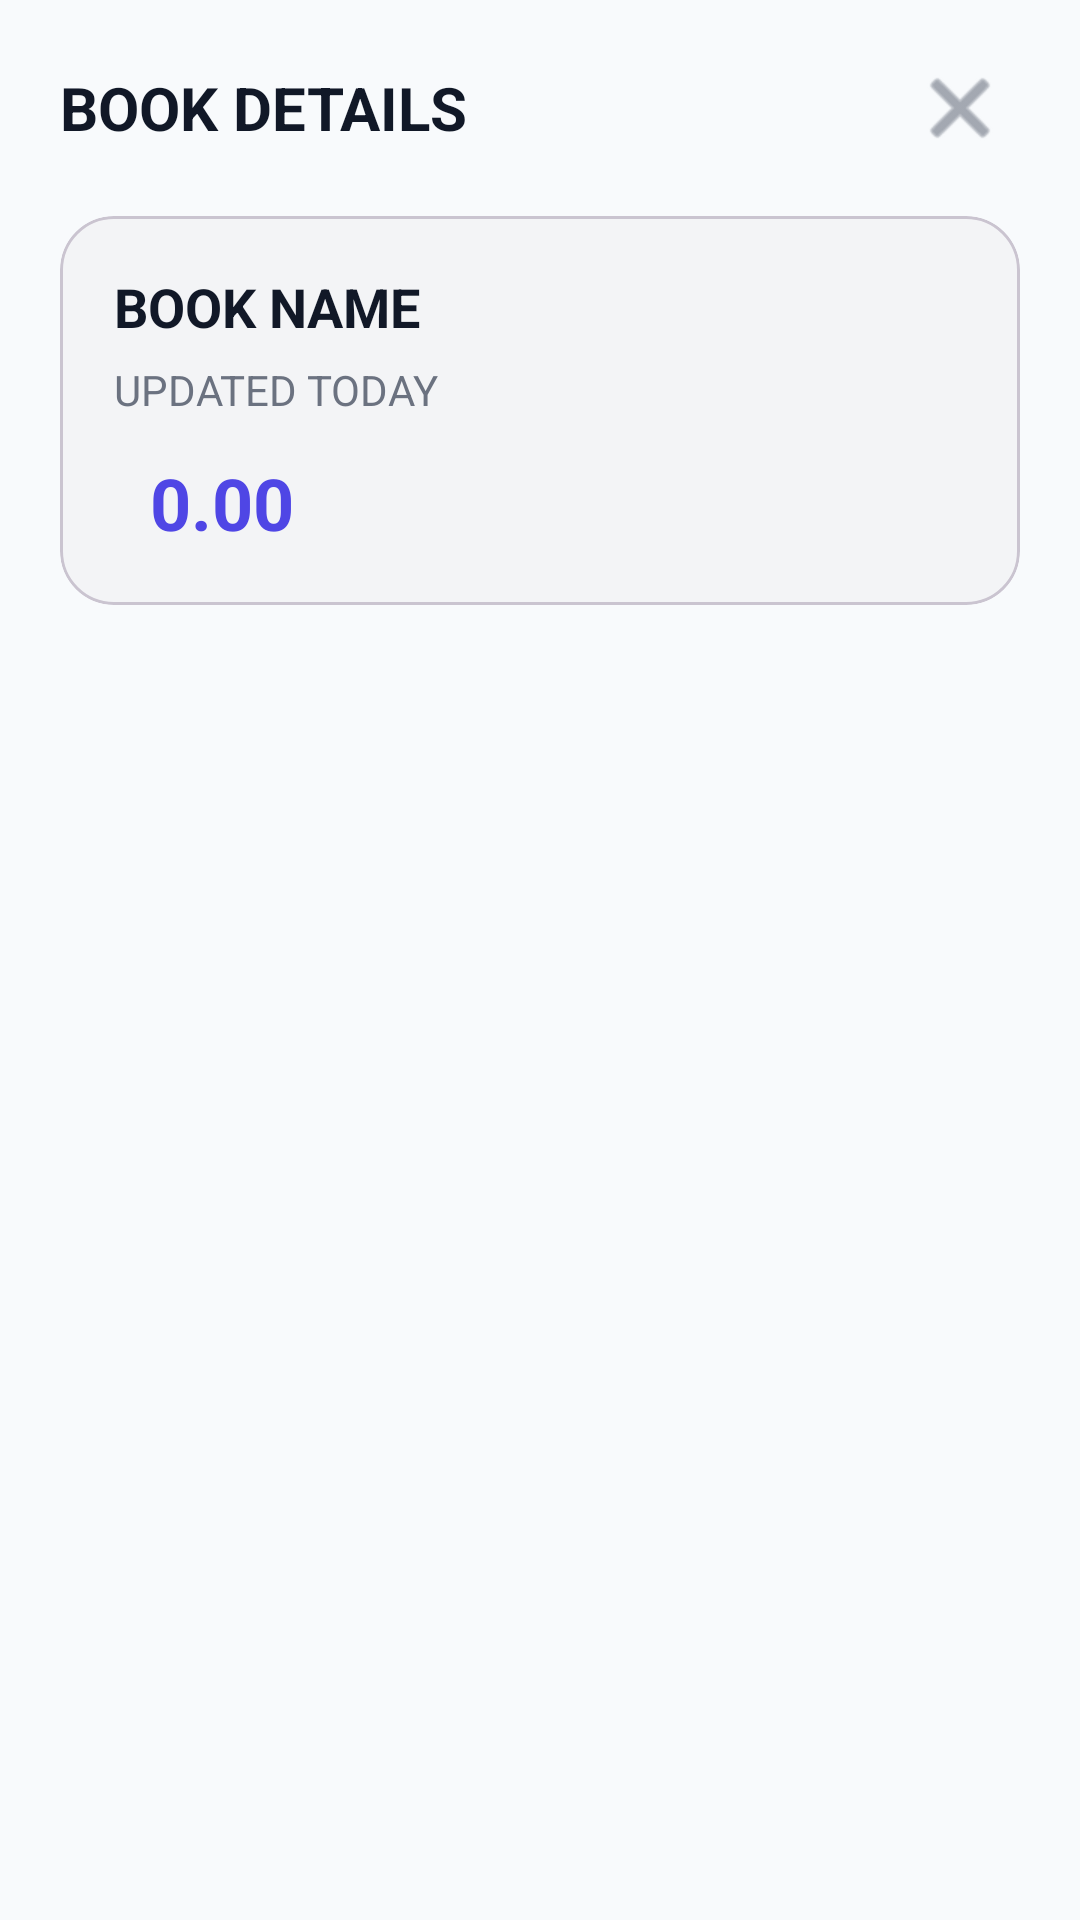

Icon bounding boxes for this 1080px x 1920px phone screenshot, format bbox=[x1, y1, x2, y2]:
Close: bbox=[930, 78, 990, 138]
